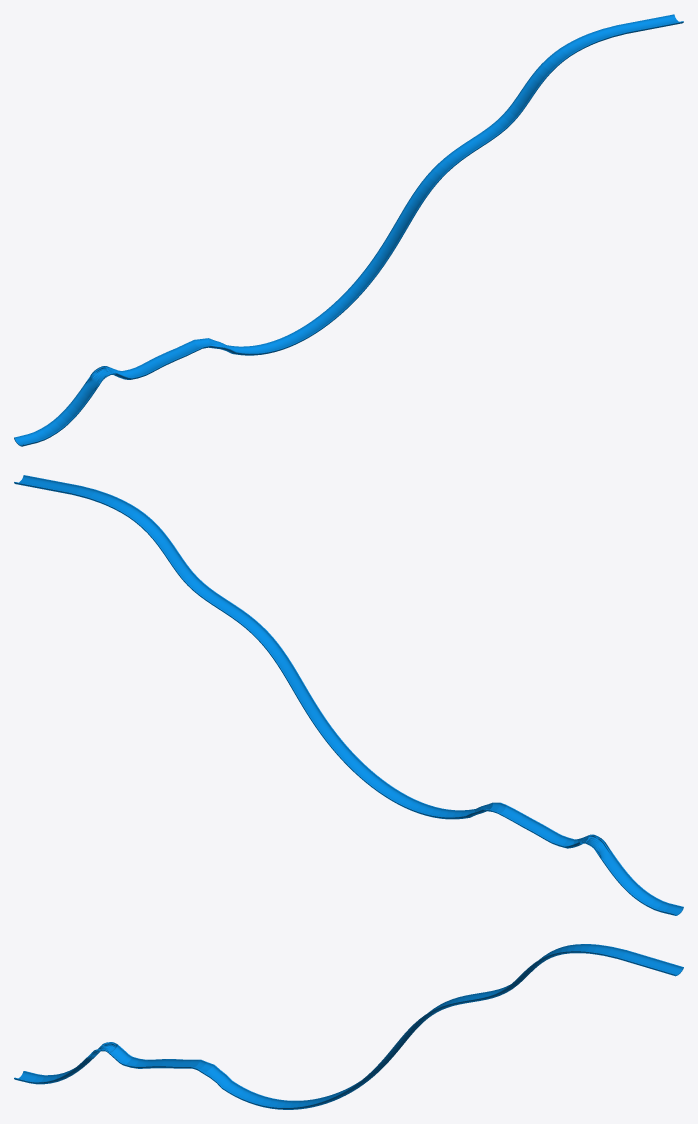
The model's file is slideWater1.fbx.
3 renders of one model, top to bottom at view 1: azimuth 30°, elevation 25°; view 2: azimuth 150°, elevation 25°; view 3: azimuth 330°, elevation 25°, orthographic.
Parts seen in each view (by area): view 1: Cylinder; view 2: Cylinder; view 3: Cylinder.
Part boxes in pixels (x1=…): Cylinder: x1=14, y1=14, x2=683, y2=446; Cylinder: x1=14, y1=475, x2=683, y2=915; Cylinder: x1=14, y1=944, x2=683, y2=1109.
Size of the model in its own units: 18588 by 7364 by 643.
